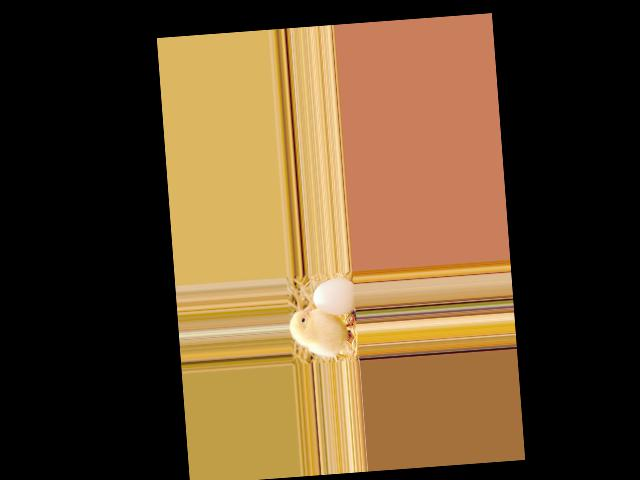egg: (312, 277, 356, 317)
